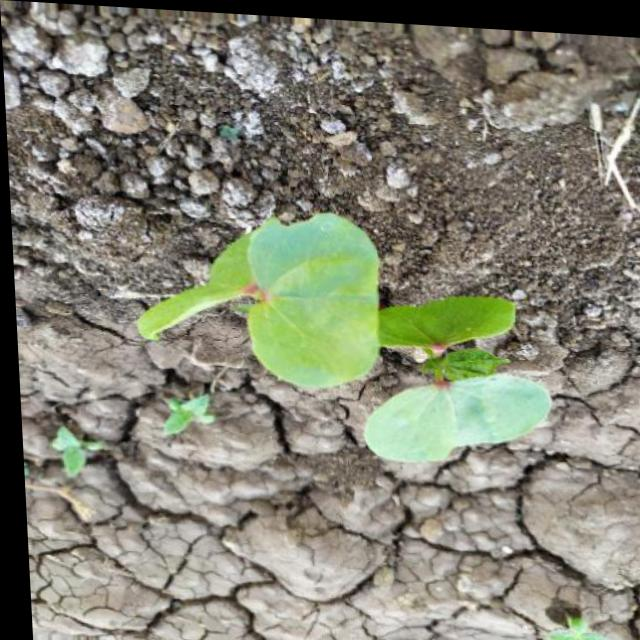weed: (120, 194, 552, 468)
